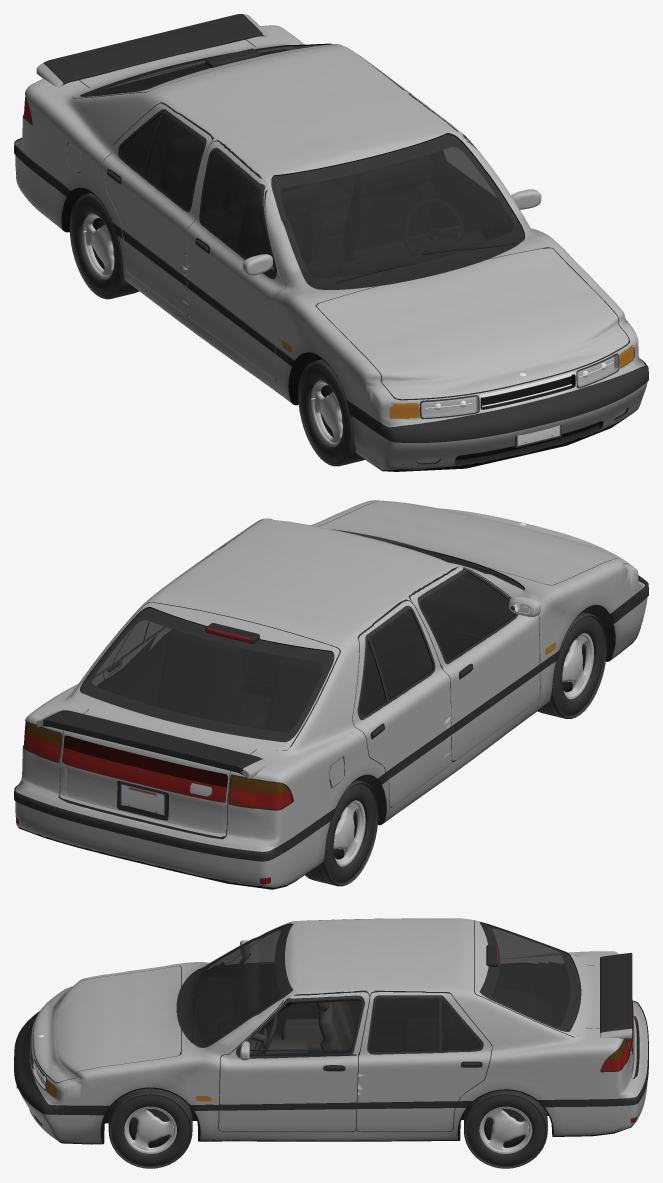
File: car_hero_v22.glb
The picture shows the model from 3 angles, top to bottom: view 1: azimuth 30°, elevation 25°; view 2: azimuth 150°, elevation 25°; view 3: azimuth 270°, elevation 25°; orthographic projection. The views are drawn at different scales.
Parts seen in each view (by area): view 1: body, wheel_FR, wheel_RR; view 2: body, wheel_FR, wheel_RR; view 3: body, wheel_FL, wheel_RL.
Part boxes in pixels (x1,y1,x2,y2): body: [14, 14, 648, 471]; wheel_FR: [298, 359, 364, 466]; wheel_RR: [69, 193, 139, 299]; body: [14, 500, 648, 889]; wheel_FR: [537, 612, 606, 718]; wheel_RR: [305, 780, 378, 886]; body: [14, 918, 648, 1144]; wheel_FL: [108, 1088, 192, 1168]; wheel_RL: [464, 1090, 547, 1168].
Bounding box in the file's own units: 1.99 × 1.42 × 4.78.
Materials: 12 (1 with a texture image).
